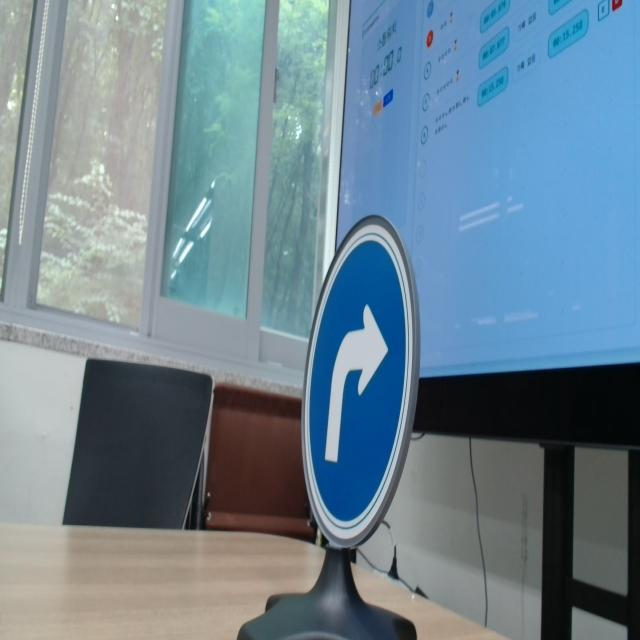right_dierection: (300, 212, 422, 542)
